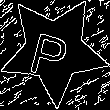P_N: (30, 21, 78, 79)
